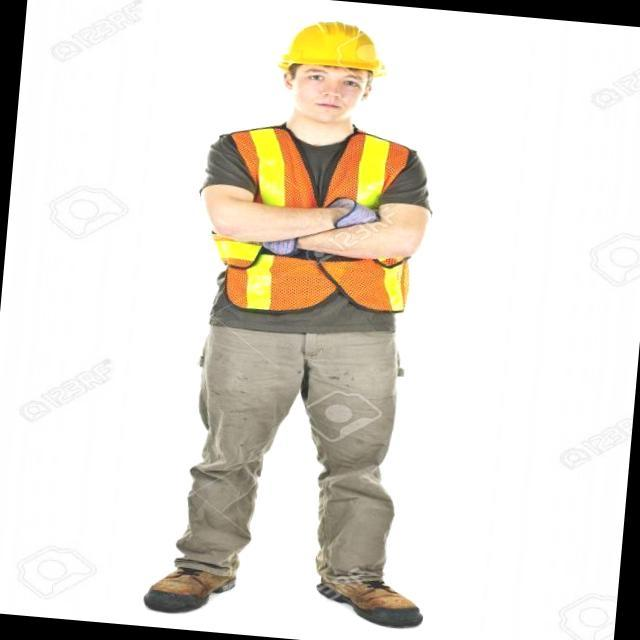Helmet: (275, 17, 391, 81)
Person: (129, 4, 478, 640)
Safety Boot: (312, 574, 427, 631), (140, 562, 238, 619)
Safety Vest: (206, 118, 424, 324)
